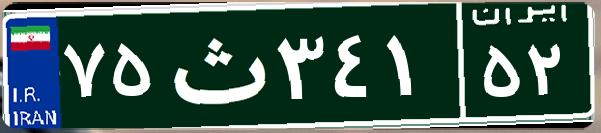1: (385, 28, 445, 110)
2: (525, 38, 570, 115)
3: (273, 28, 330, 110)
4: (330, 28, 385, 110)
5: (475, 38, 525, 113), (110, 28, 158, 105)
7: (57, 26, 110, 107)
ث: (158, 15, 273, 115)
